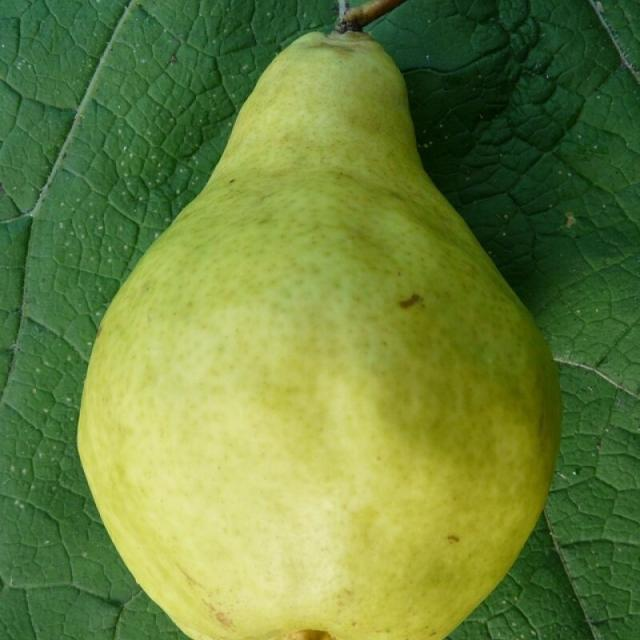pear: (68, 18, 570, 636)
